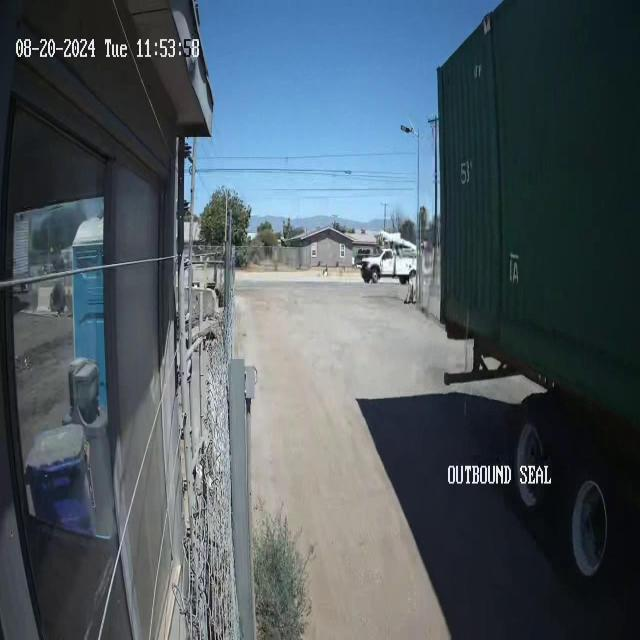TRUCK_IN: (435, 0, 639, 585)
